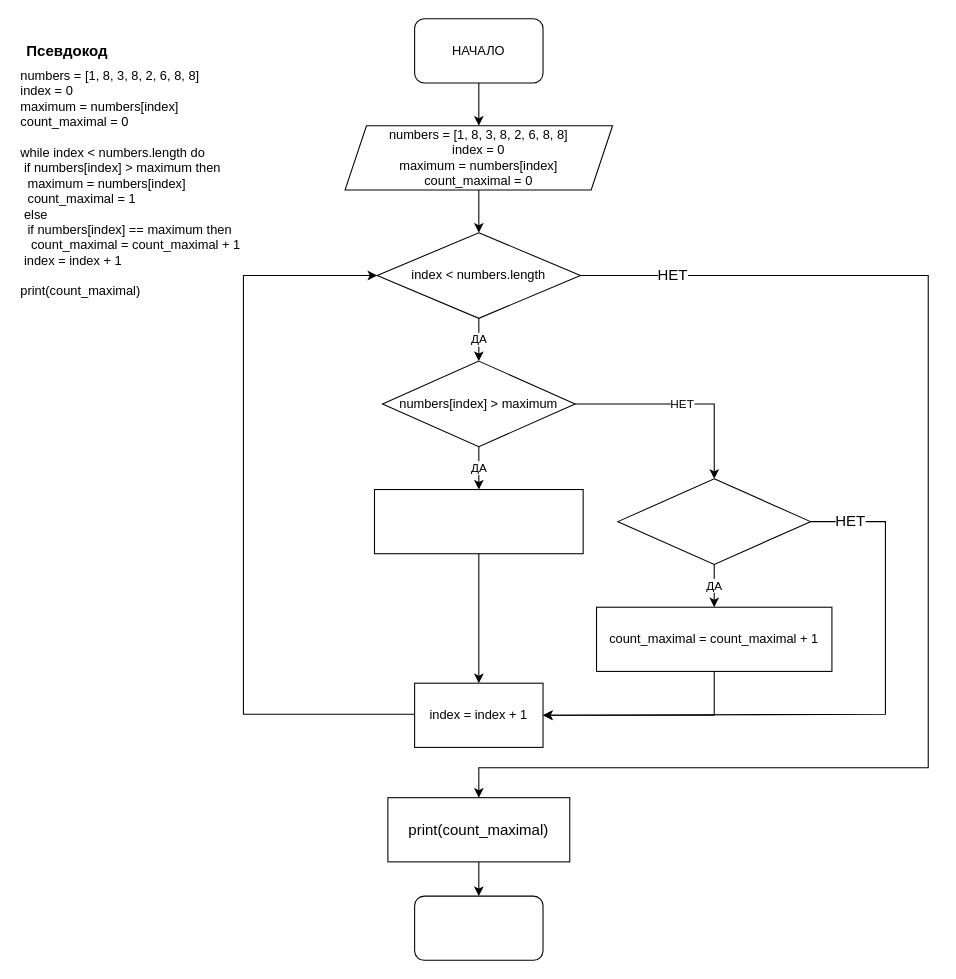
This 956x979 diagram has some shape labels left out. Here are the shapes that lost their labels. From the top down, the box of each, then its label:
(373, 488, 583, 554): maximum = numbers[index] count_maximal = 1
(617, 478, 811, 564): numbers[index] == maximum
(414, 895, 543, 960): КОНЕЦ
